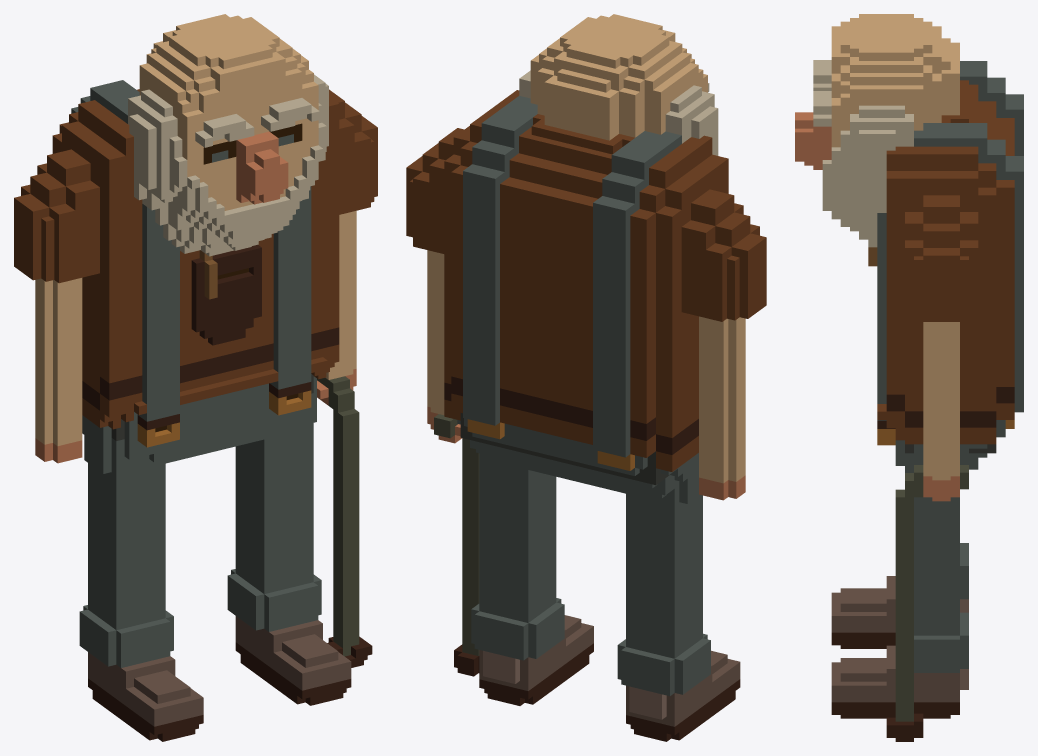
Rendered from old_man01.obj.
3 renders of one model, left to right at view 1: azimuth 30°, elevation 25°; view 2: azimuth 150°, elevation 25°; view 3: azimuth 270°, elevation 25°, orthographic. The views are drawn at different scales.
Size of the model in its own units: 42 by 77 by 25.
1 material, 1 textured.
